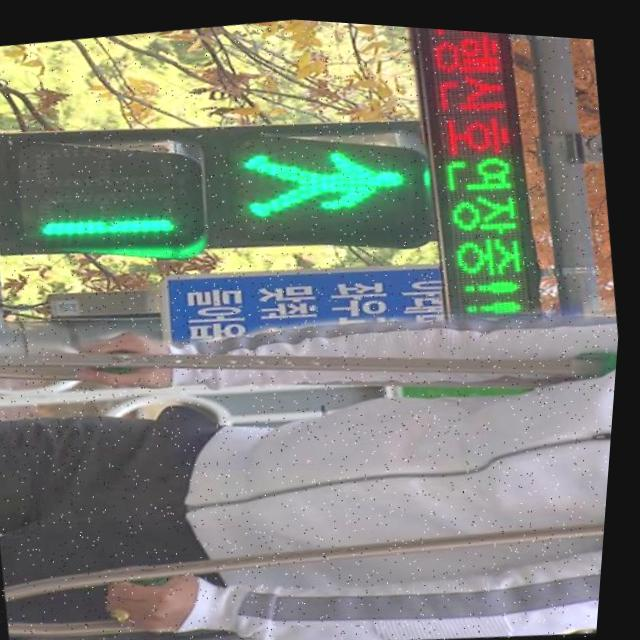green_light: (2, 94, 425, 302)
